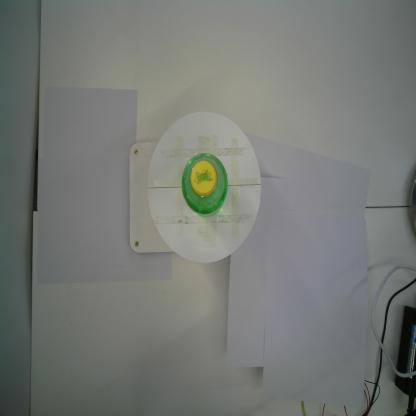Drink: (180, 150, 231, 223)
